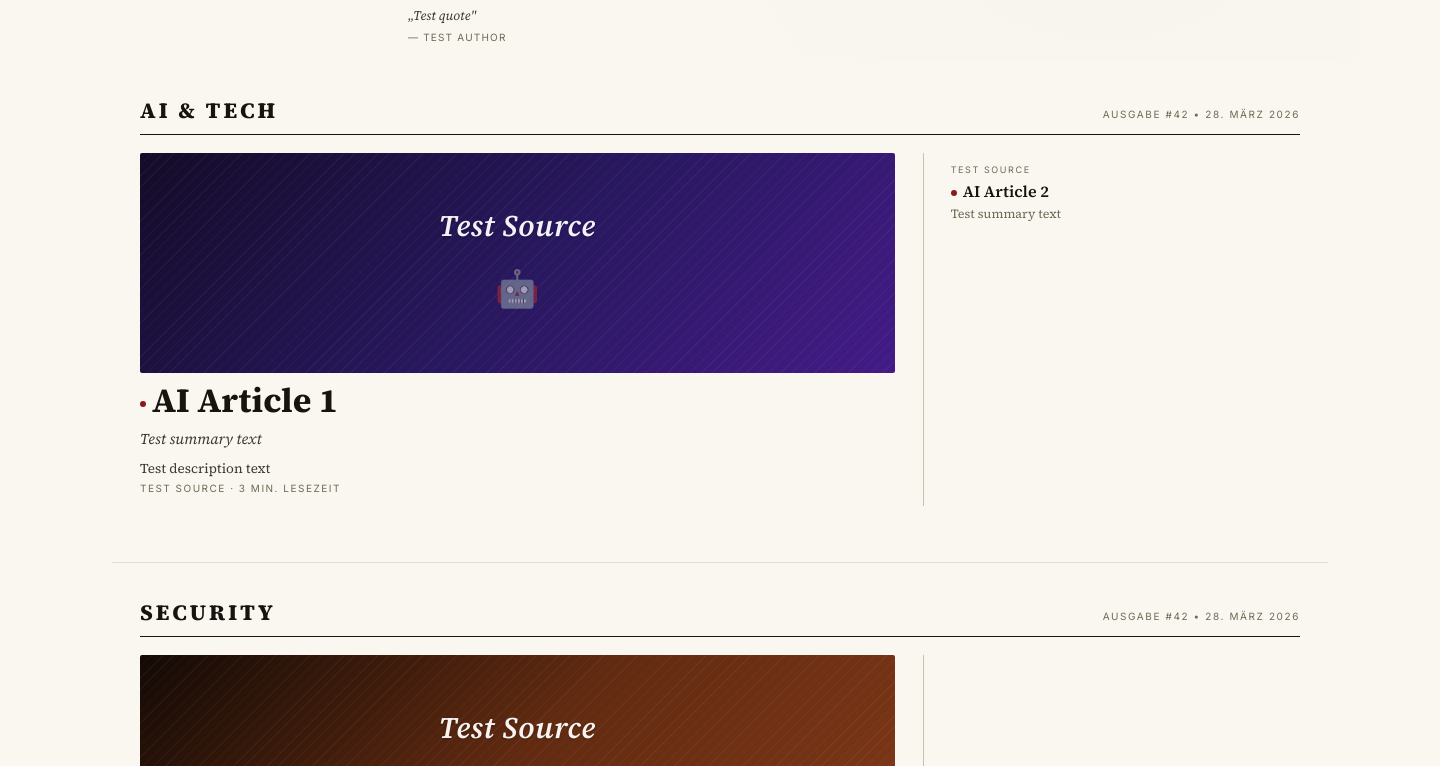
Test case: BrakeFastApp › opens EditorialArticleModal when an article is clicked
The image size is (1440, 766).
(page scrolled)
What coordinates should you click on to do the following:
click the button with class "ed-cat-lead-headline"
I would click on:
 (239, 400)
Its box is x1=140 y1=377 x2=338 y2=423.
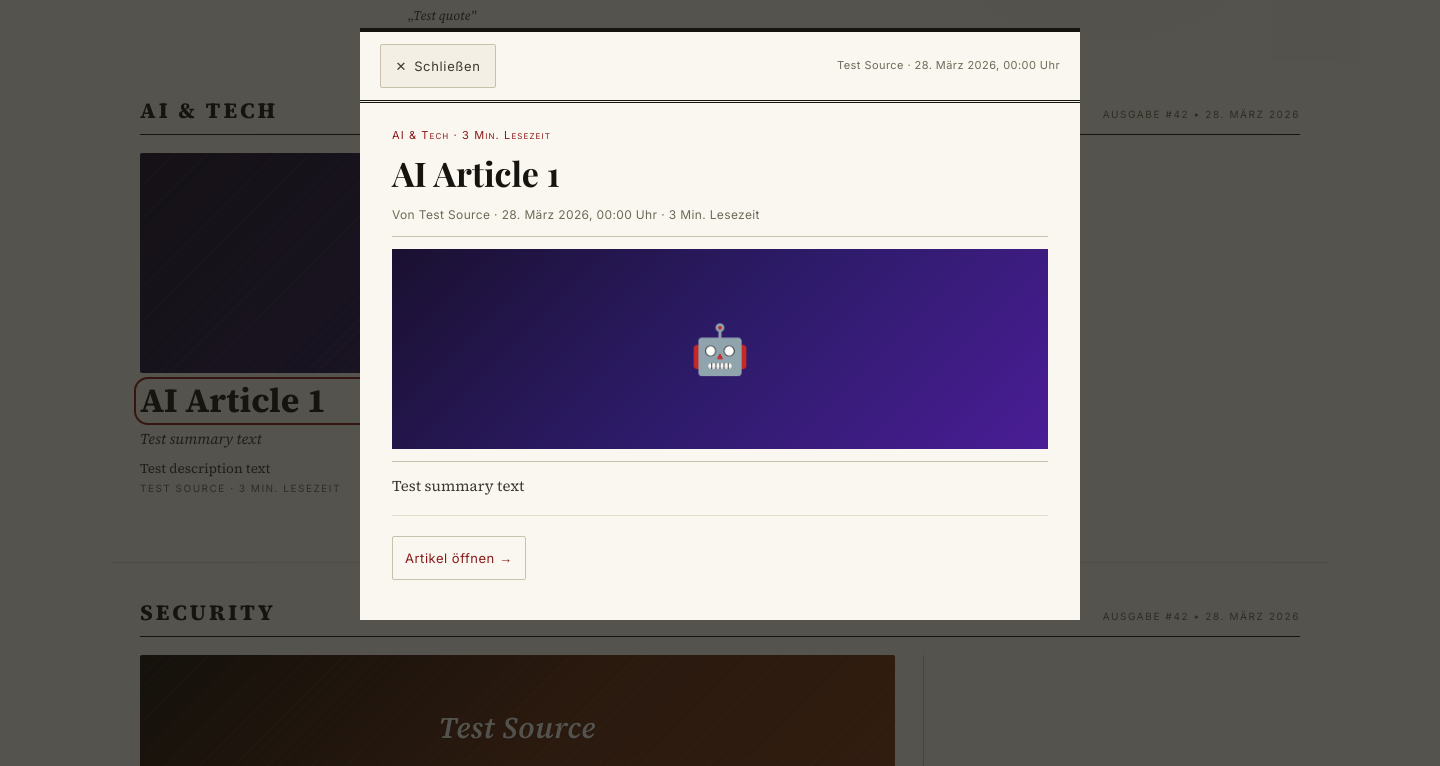
Expected: the button with aria-label "Artikel schließen" is shown, x1=380 y1=44 x2=496 y2=88
